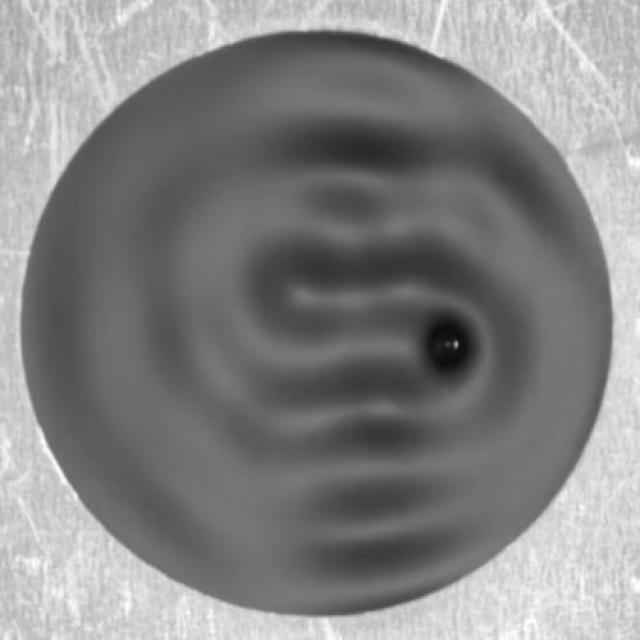droplet: (427, 323, 477, 373)
